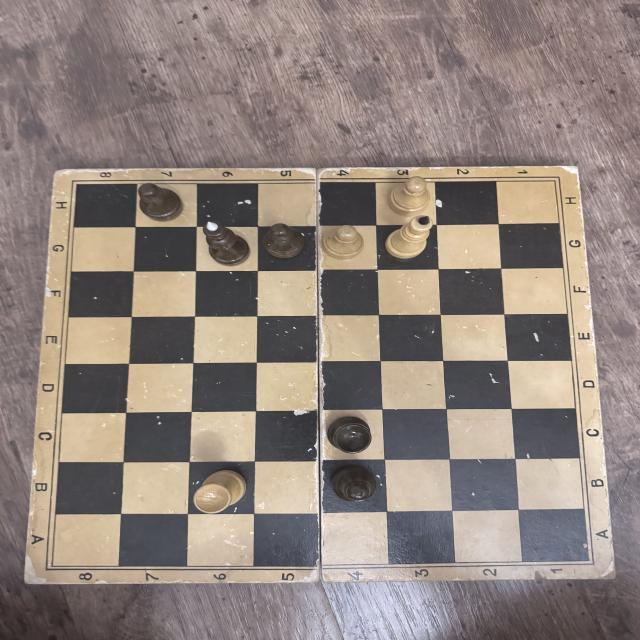black-king: (201, 219, 252, 266)
black-pawn: (136, 184, 184, 222), (333, 464, 378, 502), (263, 222, 307, 260)
black-rook: (326, 414, 375, 456)
white-king: (384, 214, 432, 260)
white-pawn: (389, 176, 431, 214), (321, 224, 364, 259)
white-rook: (192, 471, 250, 514)
